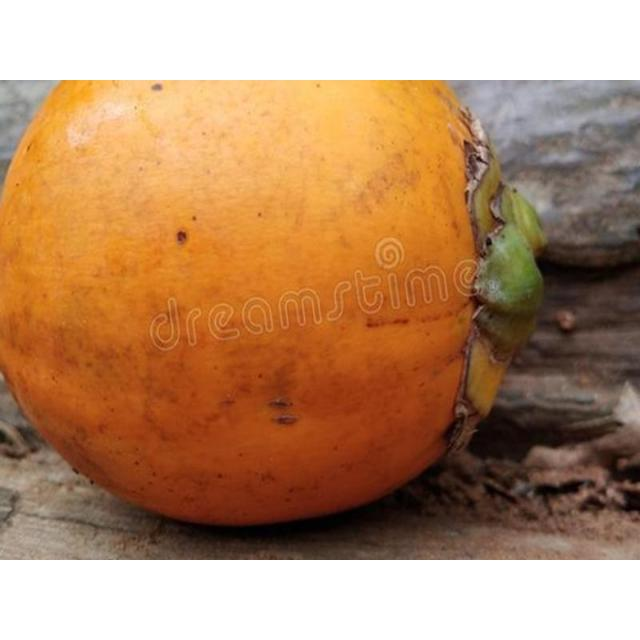good: (0, 80, 545, 530)
